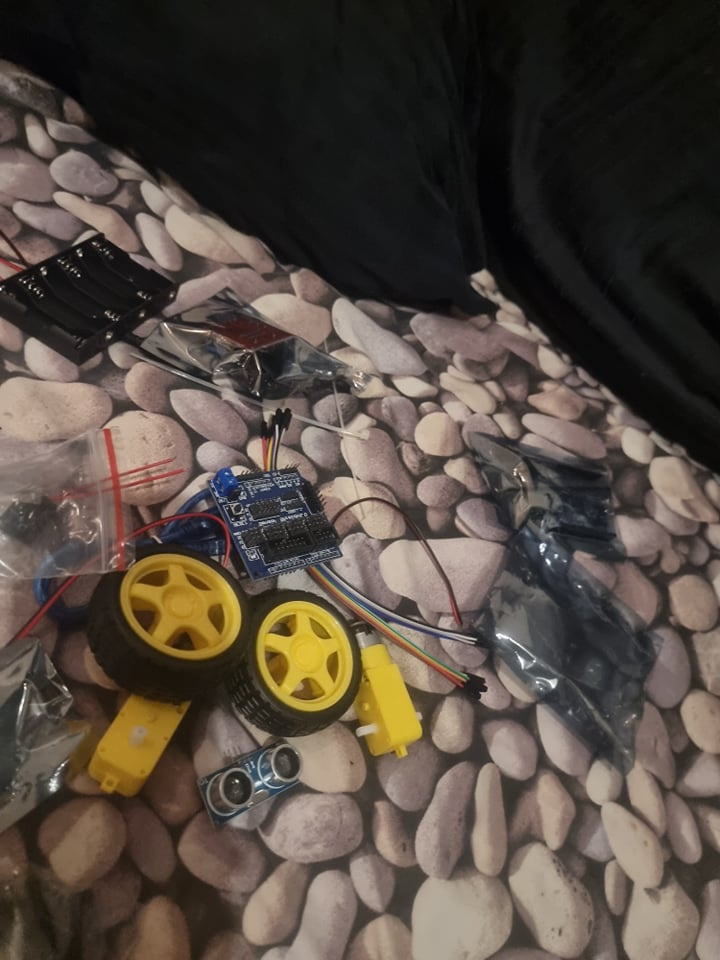5V EXPANSION: (207, 465, 339, 575)
SENSOR: (197, 738, 314, 827)
